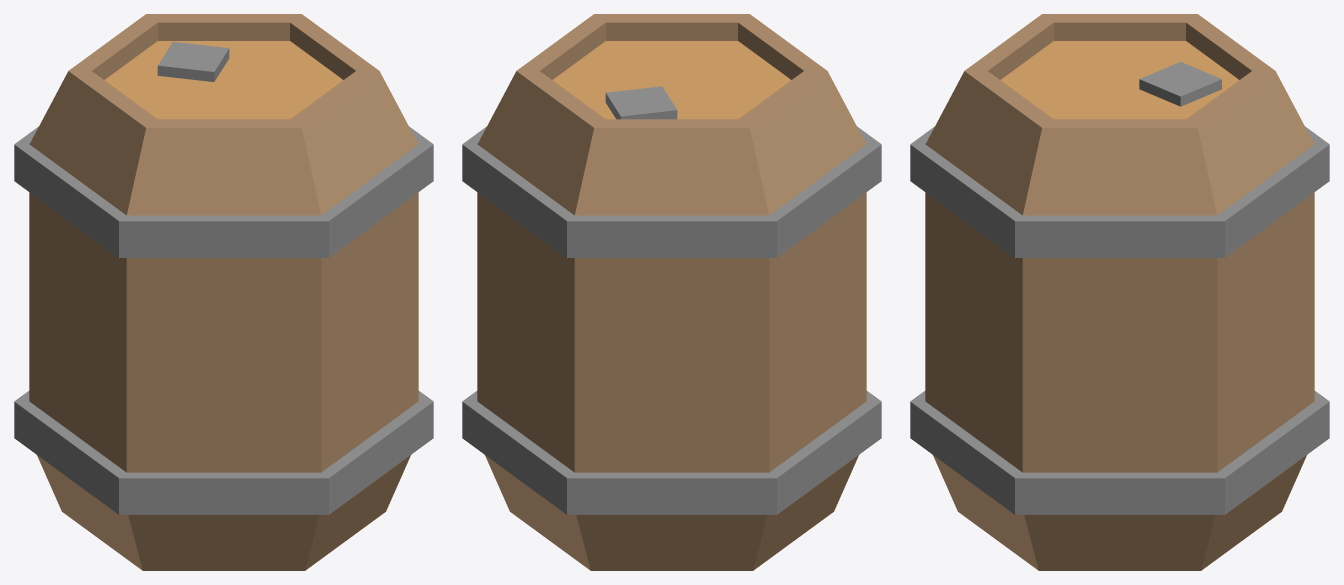
Rendered from Barrel-col.glb.
3 renders of one model, left to right at view 1: azimuth 30°, elevation 25°; view 2: azimuth 150°, elevation 25°; view 3: azimuth 270°, elevation 25°, orthographic.
Visible parts, largest first — view 1: Barrel-col; view 2: Barrel-col; view 3: Barrel-col.
Boxes of the visible parts, <box> form: Barrel-col: <box>14,14,433,570</box>; Barrel-col: <box>462,14,881,570</box>; Barrel-col: <box>910,14,1329,570</box>.
Bounding box in the file's own units: 0.8967 × 1.2 × 1.04.
